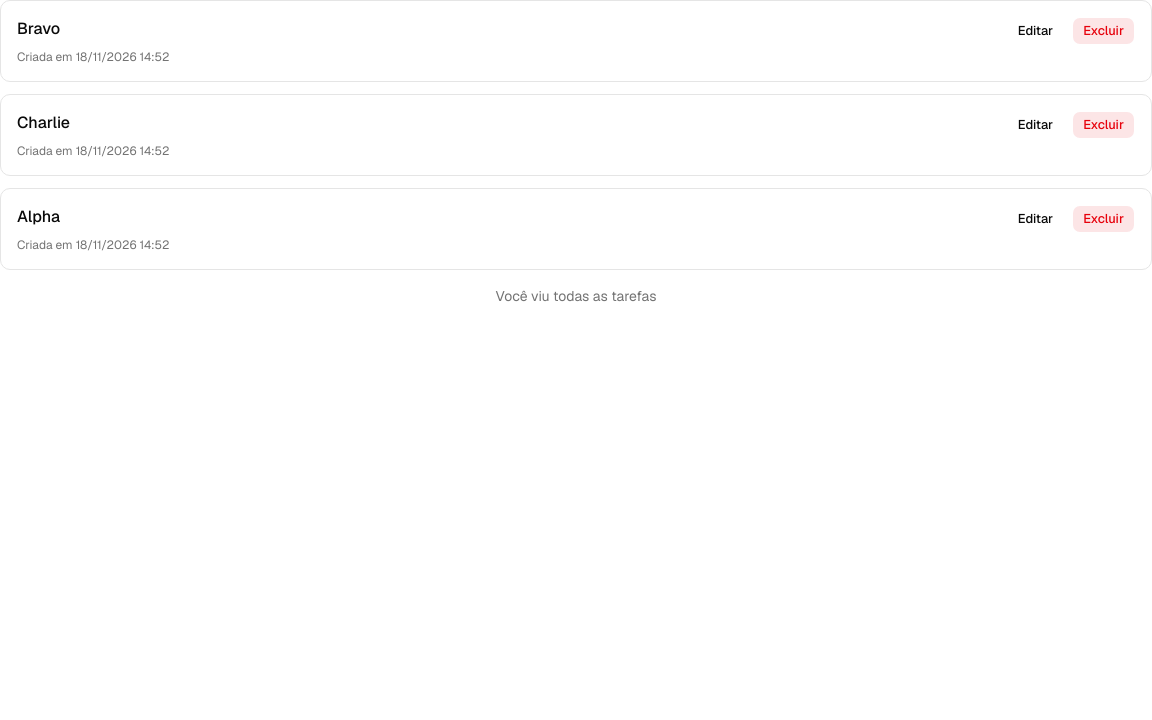
memoização do TarefaItem (contagem de renders) › A: excluir o do meio não re-renderiza os outros dois
Fluxo real: diálogo + mutation + remoção do cache + invalidação (refetch).
Click the button with aria-label "Excluir Bravo": (1104, 31) x1=1072 y1=17 x2=1135 y2=45
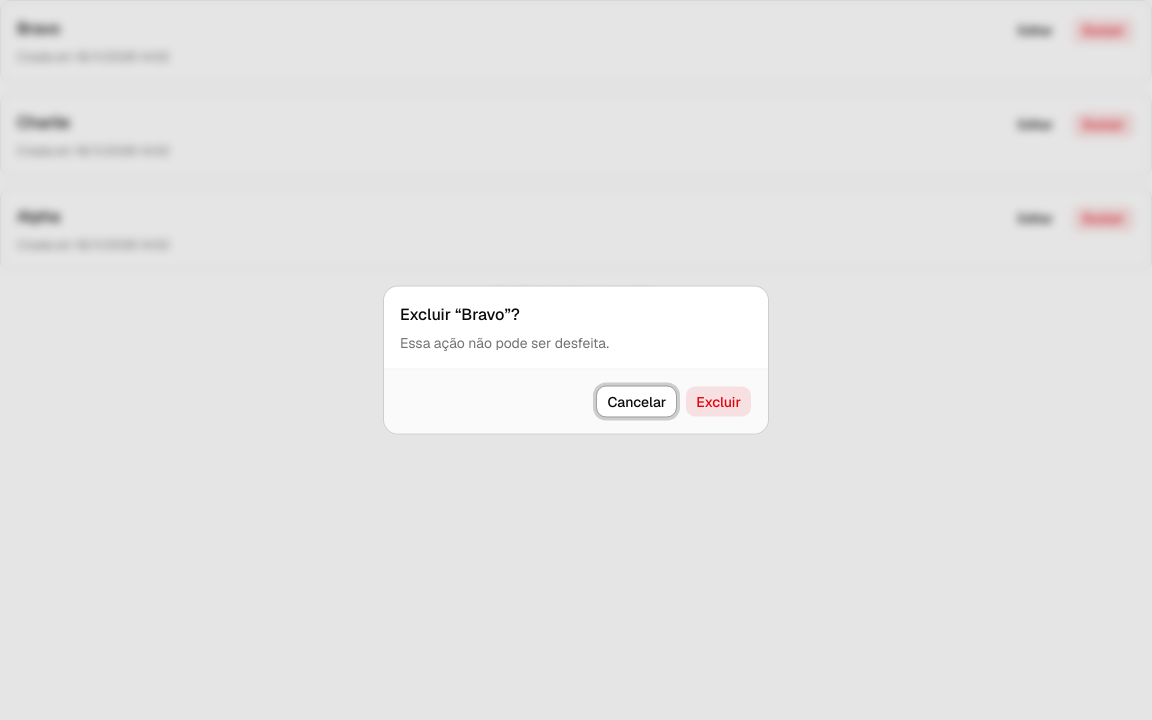
Click the button "Excluir": (719, 402) x1=685 y1=386 x2=752 y2=418
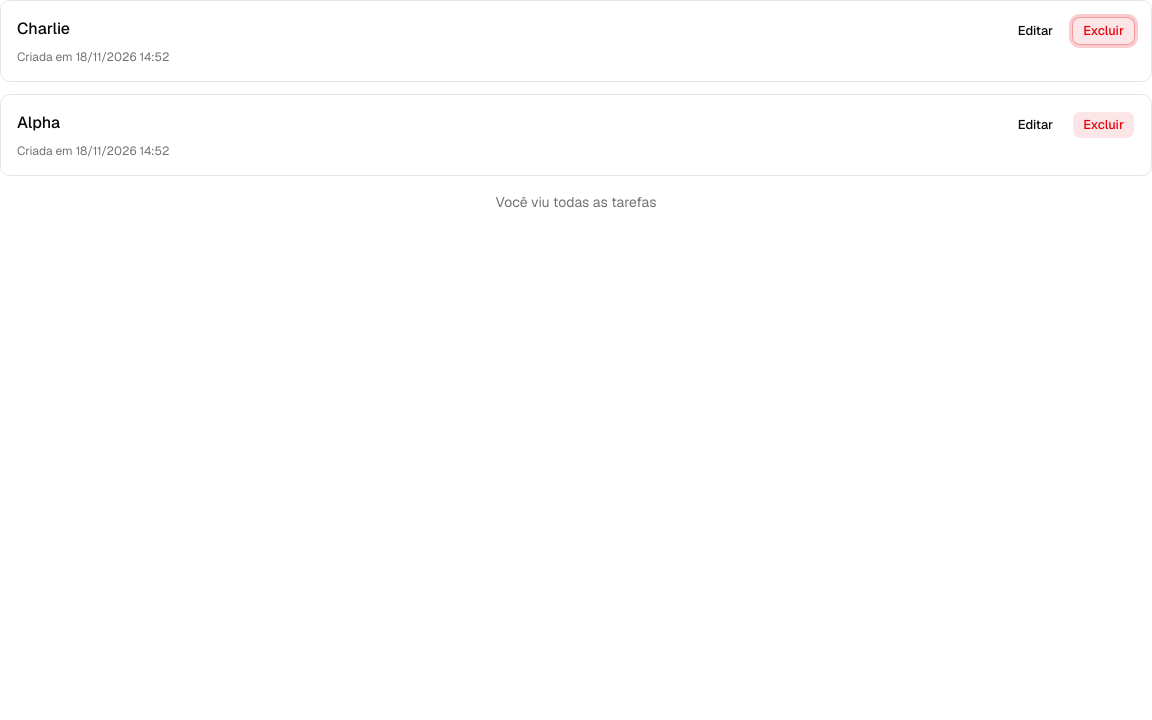
Expected: the heading "Bravo" is gone
Expected: the number of list items is 2, x1=0 y1=0 x2=1151 y2=82; x1=0 y1=94 x2=1151 y2=176
